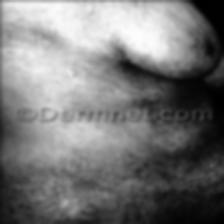Non-Cancerous Skin Condition: (19, 166, 106, 222), (147, 158, 224, 209), (70, 84, 129, 107)
